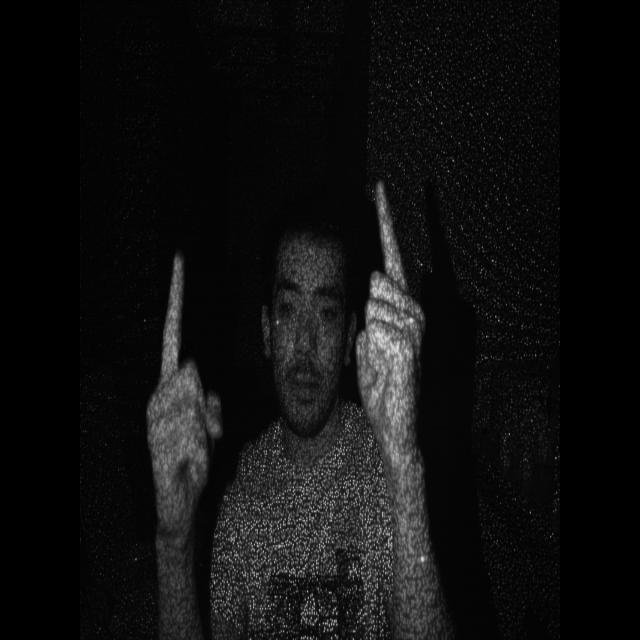STARS: (142, 250, 242, 539), (348, 174, 432, 477)
